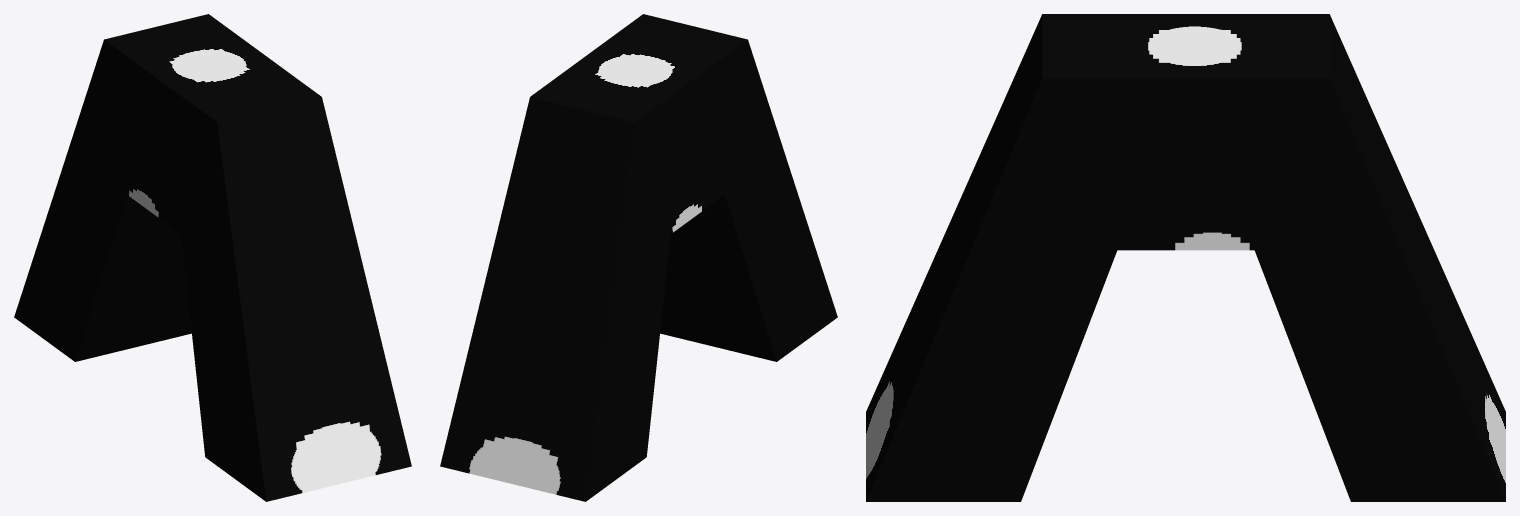
File: mono_arch.fbx
3 renders of one model, left to right at view 1: azimuth 30°, elevation 25°; view 2: azimuth 150°, elevation 25°; view 3: azimuth 270°, elevation 25°, orthographic. The views are drawn at different scales.
Visible parts, largest first — view 1: ARCH; view 2: ARCH; view 3: ARCH.
Part boxes in pixels (bbox=[...]): ARCH: bbox=[14, 14, 411, 501]; ARCH: bbox=[440, 14, 837, 501]; ARCH: bbox=[866, 14, 1505, 501].
Size of the model in its own units: 1.88 by 5.65 by 4.
